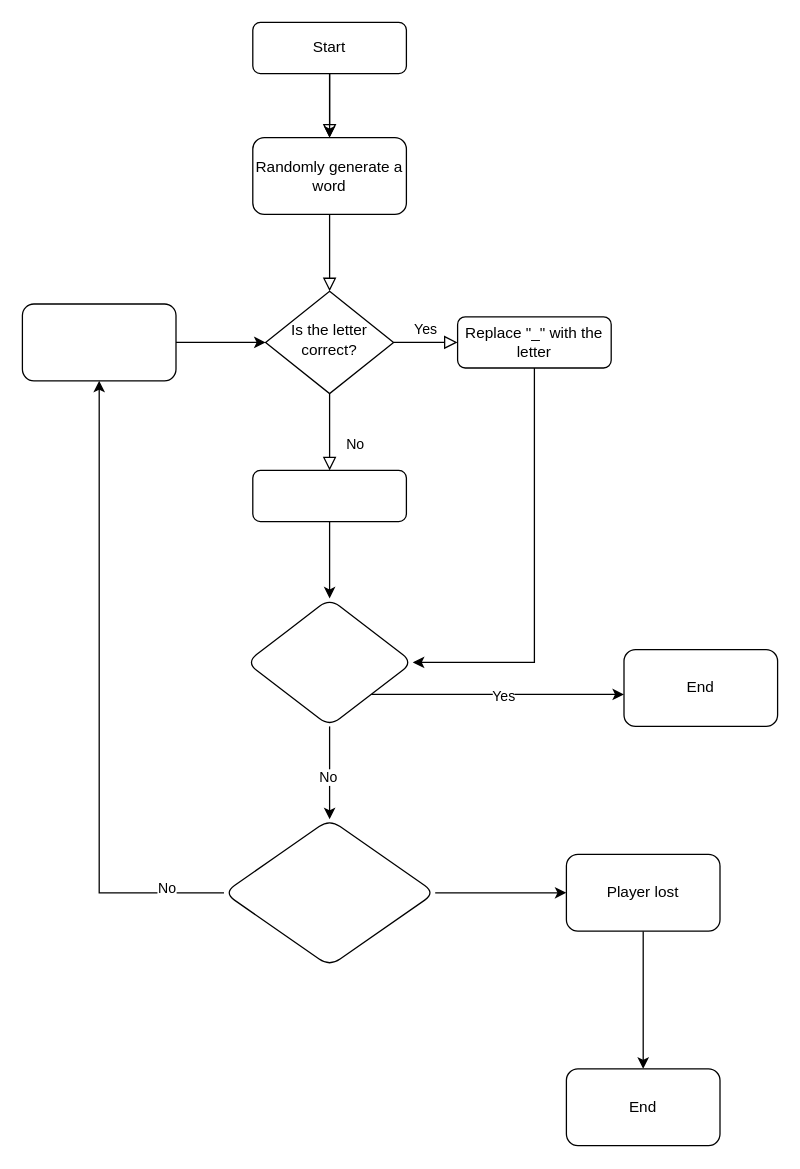
This 800x1169 diagram has some shape labels left out. The centre of each missing label's shape, as x and y in pixels:
"Have we exceeded the number of guesses?" goes at point (329, 892).
"Input User Guess" goes at point (98, 342).
"Is the word Complete?" goes at point (329, 661).
"Take away a life" goes at point (329, 495).
